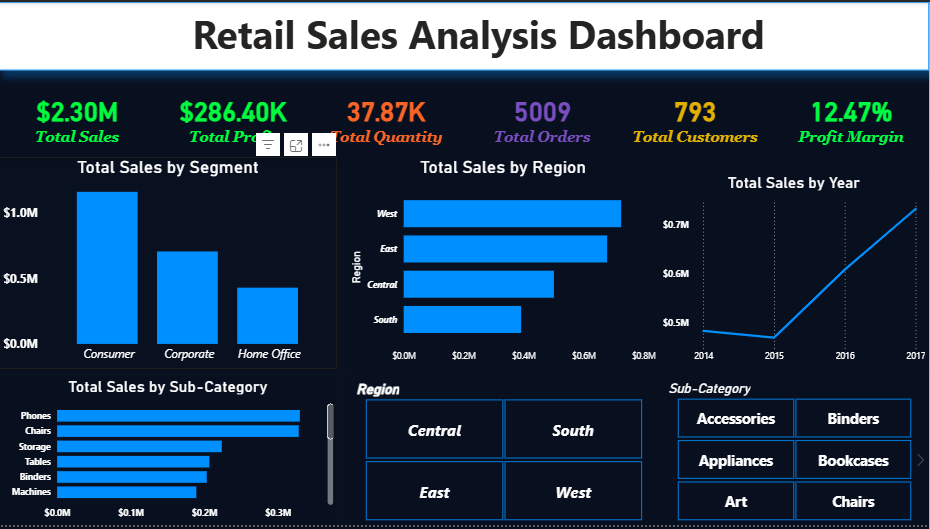

The dashboard page shown, as its layout file describes it:
{"tool":"powerbi","page":{"name":"Page 1","canvas":[1280,720],"ordinal":0},"visuals":[{"type":"card","fields":{"Values":["Sample - Superstore.Total Sales"]},"box":[0,94.1,215,129.3],"z":0},{"type":"card","fields":{"Values":["Sample - Superstore.Total Profit"]},"box":[215,94.1,215,129.3],"z":1000},{"type":"card","fields":{"Values":["Sample - Superstore.Total Quantity"]},"box":[425,94.1,215,129.3],"z":2000},{"type":"card","fields":{"Values":["Sample - Superstore.Total Orders"]},"box":[640,94.1,215,129.3],"z":3000},{"type":"card","fields":{"Values":["Sample - Superstore.Total Customers"]},"box":[850,94.1,215,129.3],"z":4000},{"type":"card","fields":{"Values":["Sample - Superstore.Profit Margin"]},"box":[1065,94.1,215,129.3],"z":5000},{"type":"columnChart","fields":{"Category":["Sample - Superstore.Segment"],"Y":["Sample - Superstore.Total Sales"]},"box":[0,213.3,465.3,292.3],"z":6000},{"type":"clusteredBarChart","fields":{"Category":["Sample - Superstore.Region"],"Y":["Sample - Superstore.Total Sales"]},"box":[478.7,213.3,430,292.3],"z":7000},{"type":"lineChart","fields":{"Category":["Sample - Superstore.Order Date.Variation.Date Hierarchy.Year","Sample - Superstore.Order Date.Variation.Date Hierarchy.Quarter","Sample - Superstore.Order Date.Variation.Date Hierarchy.Month","Sample - Superstore.Order Date.Variation.Date Hierarchy.Day"],"Y":["Sample - Superstore.Total Sales"]},"box":[908.8,235.2,371.2,270.4],"z":8000},{"type":"clusteredBarChart","fields":{"Category":["Sample - Superstore.Sub-Category"],"Y":["Sample - Superstore.Total Sales"]},"box":[0,515.7,465.3,204.9],"z":9000},{"type":"slicer","fields":{"Values":["Sample - Superstore.Region"]},"box":[479,516,430,204],"z":10000},{"type":"slicer","fields":{"Values":["Sample - Superstore.Sub-Category"]},"box":[909,516,371,204],"z":11000},{"type":"textbox","box":[0,0,1280,93.6],"z":11001}]}

Visuals, with their boxes in screenshot pixels (x1, y1, x2, y2), scaled from the page's 1280x720 canvas onto the 930x529 screenshot:
card - Sample - Superstore.Total Sales: [0, 69, 156, 164]
card - Sample - Superstore.Total Profit: [156, 69, 312, 164]
card - Sample - Superstore.Total Quantity: [309, 69, 465, 164]
card - Sample - Superstore.Total Orders: [465, 69, 621, 164]
card - Sample - Superstore.Total Customers: [618, 69, 774, 164]
card - Sample - Superstore.Profit Margin: [774, 69, 929, 164]
columnChart - Sample - Superstore.Segment x Sample - Superstore.Total Sales: [0, 157, 338, 371]
clusteredBarChart - Sample - Superstore.Region x Sample - Superstore.Total Sales: [348, 157, 660, 371]
lineChart - Sample - Superstore.Order Date.Variation.Date Hierarchy.Year x Sample - Superstore.Order Date.Variation.Date Hierarchy.Quarter: [660, 173, 929, 371]
clusteredBarChart - Sample - Superstore.Sub-Category x Sample - Superstore.Total Sales: [0, 379, 338, 528]
slicer - Sample - Superstore.Region: [348, 379, 660, 528]
slicer - Sample - Superstore.Sub-Category: [660, 379, 929, 528]
textbox: [0, 0, 929, 69]
